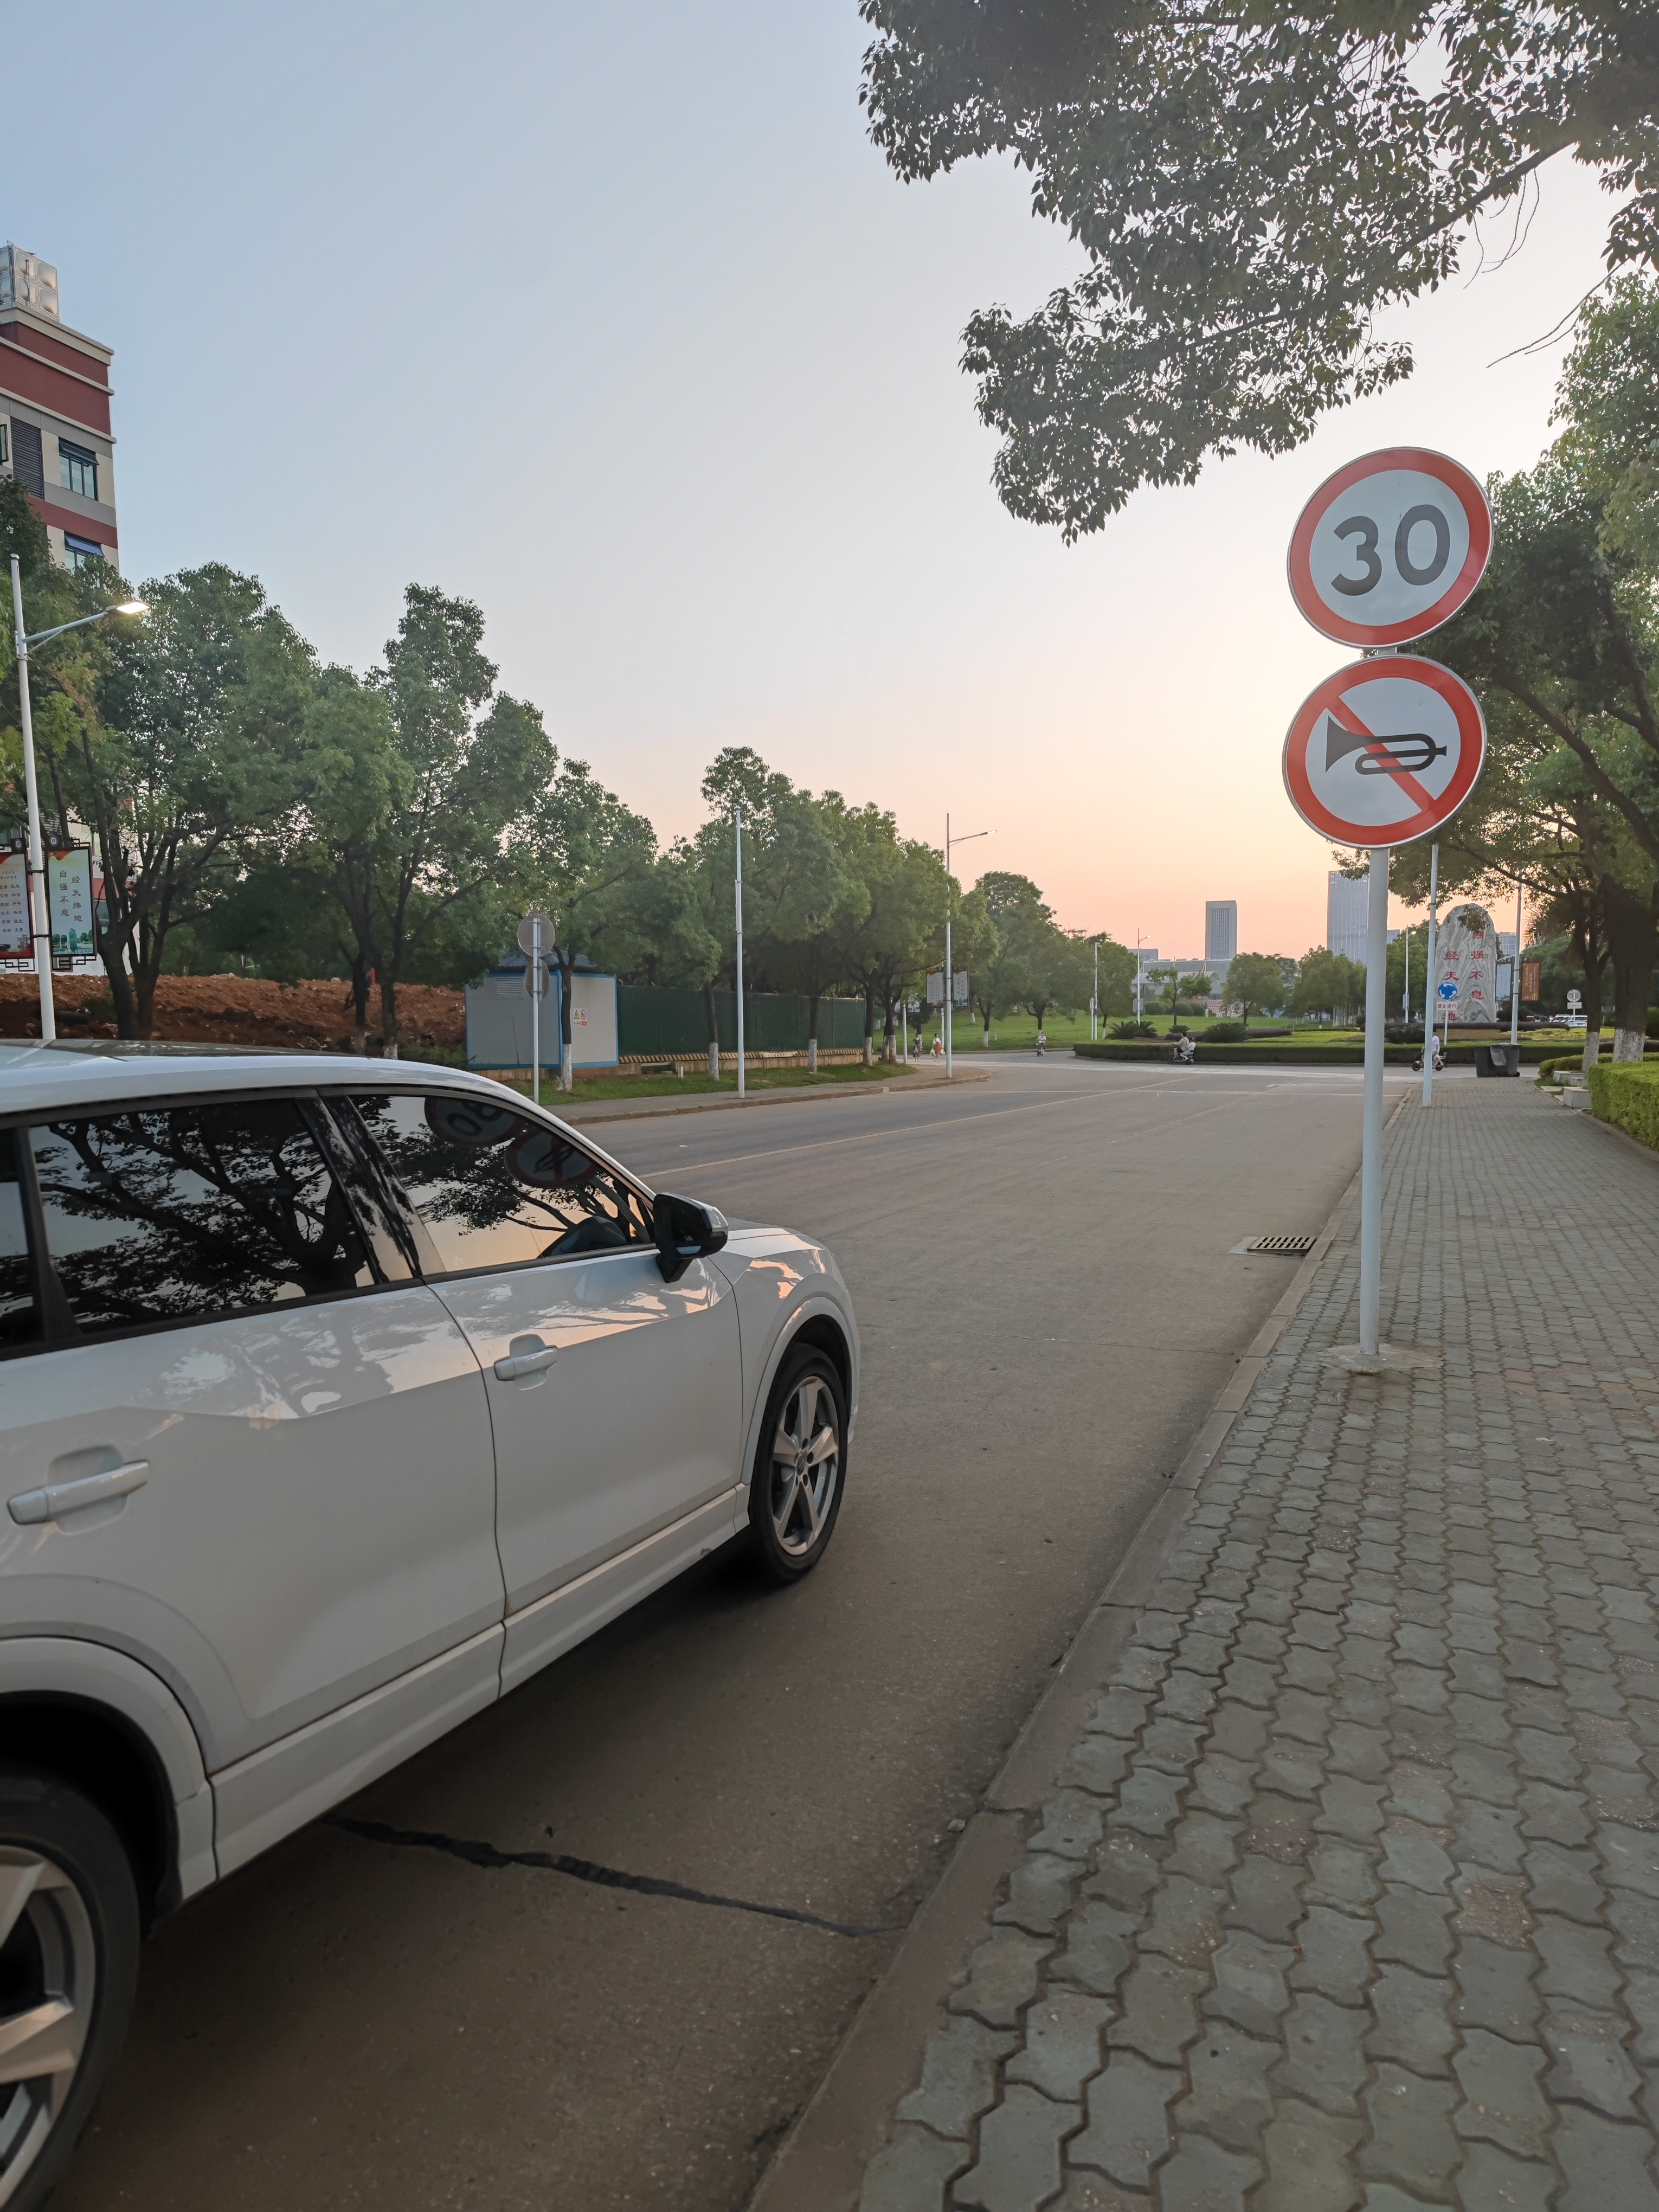p11: (1298, 655, 1500, 853)
pl30: (1298, 449, 1499, 655)
